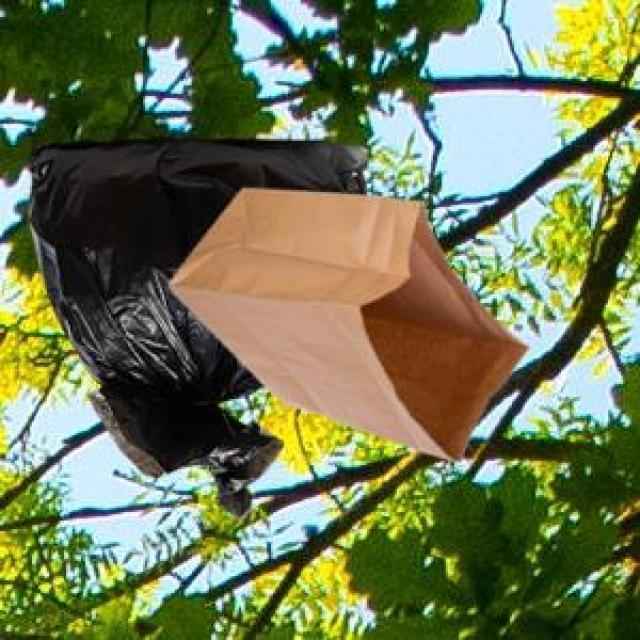miscellaneous trash: (26, 134, 363, 516)
paper: (164, 184, 523, 457)
